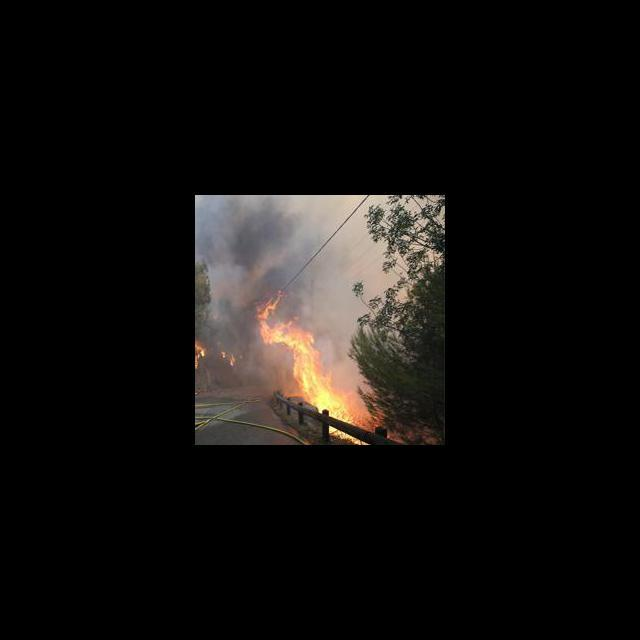Fire: (256, 294, 374, 434)
